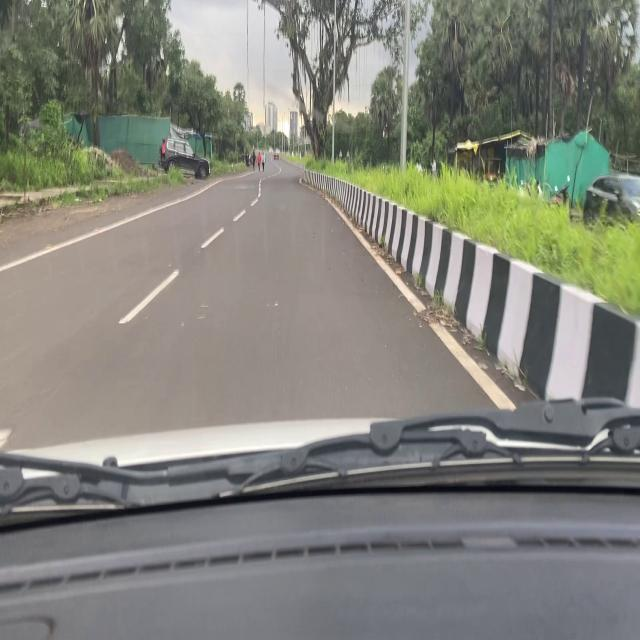lane: (1, 192, 276, 453), (310, 184, 519, 418), (1, 171, 244, 277)
